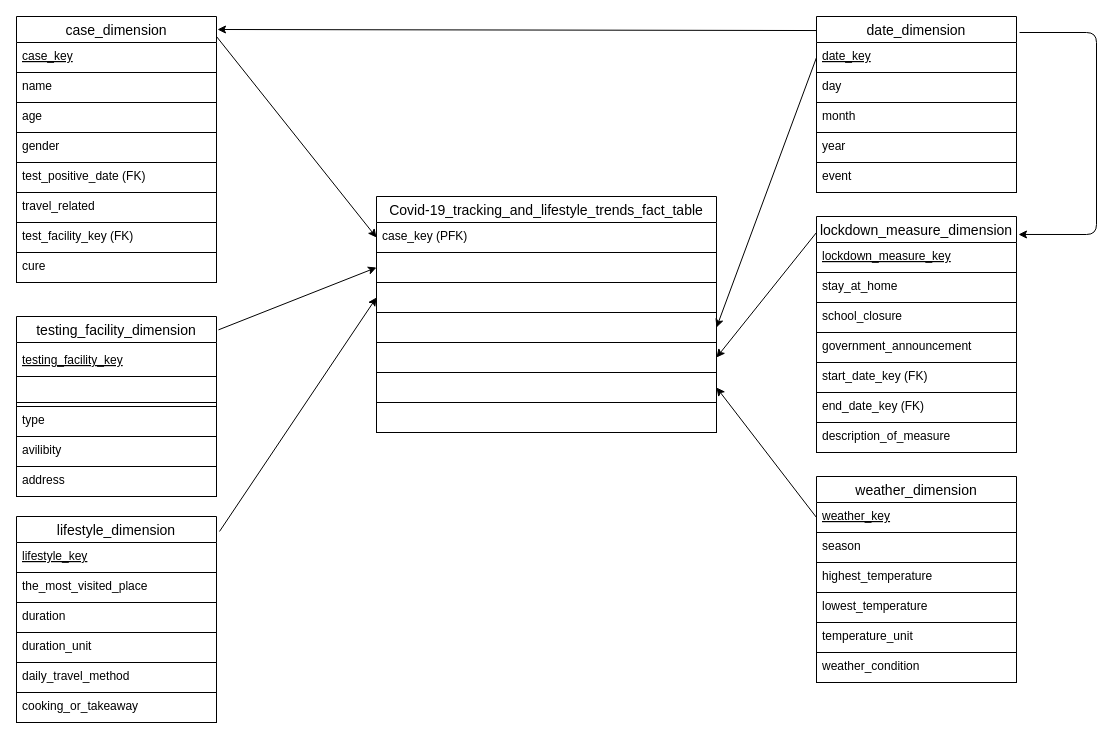
The diagram is 1113 pixels wide and 739 high, and some of its shapes have lost their labels. Each missing label, with the centre of its shape:
daily_total_new_reported_case: the point at 546,417
date_key (PFK): the point at 546,327
lifestyle_key (PFK): the point at 546,297
locakdown_measure_key (PFK): the point at 546,357
name_of_facility: the point at 116,391
testing_facility_key (PFK): the point at 546,267
weather_key (PFK): the point at 546,387
